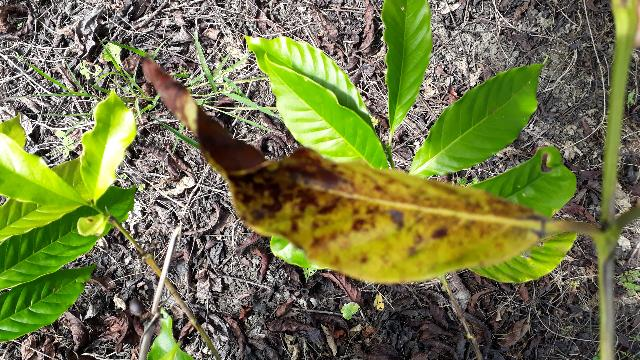red_spider_mite: (76, 80, 498, 298)
